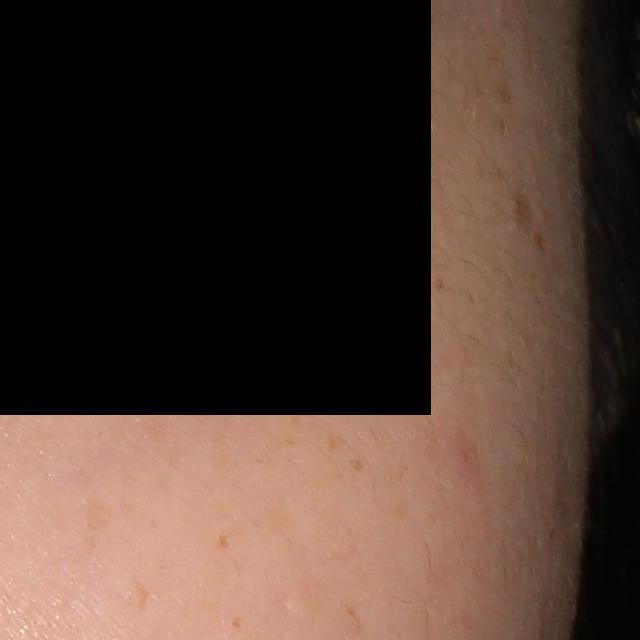melasma: (78, 491, 116, 562), (505, 188, 533, 235), (135, 579, 153, 615), (211, 530, 232, 550), (322, 429, 338, 454), (227, 612, 247, 630), (348, 457, 368, 474), (530, 228, 544, 251)
